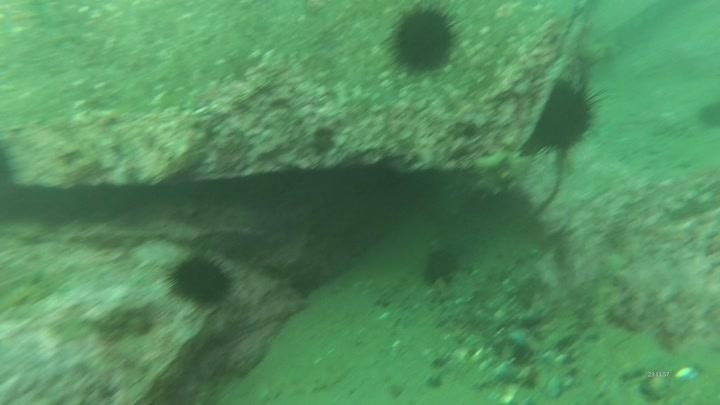echinus: (526, 74, 605, 159), (384, 2, 463, 78), (162, 248, 237, 312), (419, 244, 463, 287), (695, 97, 720, 132)
holothurian: (465, 145, 536, 204)
